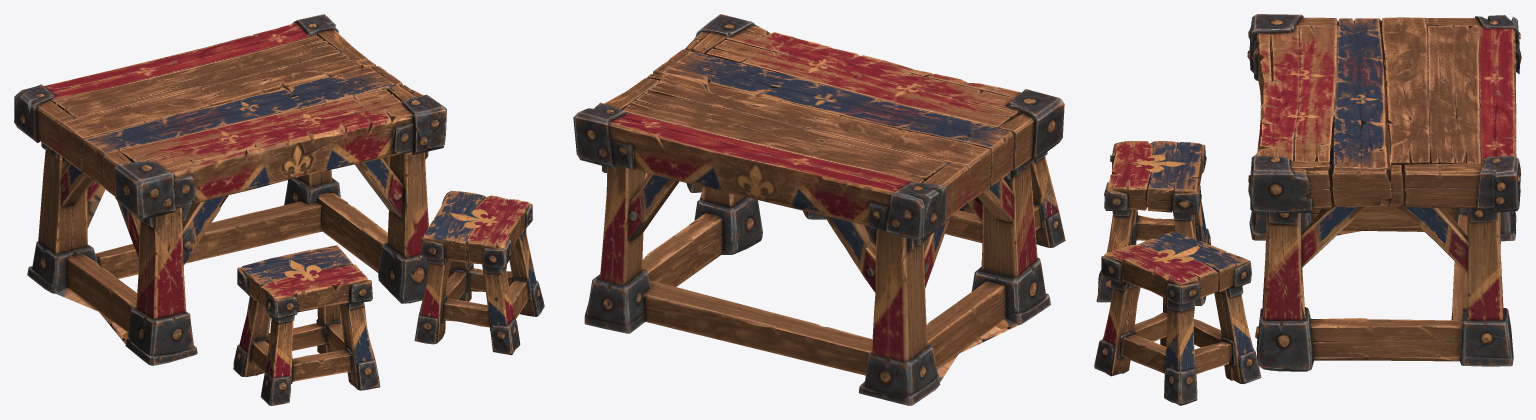
The model's file is feast-table-stools.glb.
3 views of the same model, side by side, from view 1: azimuth 30°, elevation 25°; view 2: azimuth 150°, elevation 25°; view 3: azimuth 270°, elevation 25° (orthographic). The views are drawn at different scales.
Parts seen in each view (by area): view 1: output_unwrapped; view 2: output_unwrapped; view 3: output_unwrapped.
Part boxes in pixels (<box>): output_unwrapped: <box>14,14,544,405</box>; output_unwrapped: <box>573,14,1065,405</box>; output_unwrapped: <box>1094,14,1521,405</box>.
Size of the model in its own units: 1.9 by 0.9523 by 1.79.
Materials: 1 (1 with a texture image).
